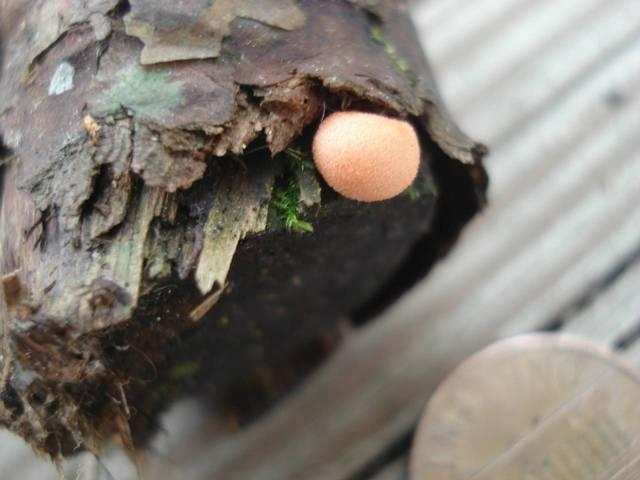poisonous_mushroom: (310, 108, 422, 203)
